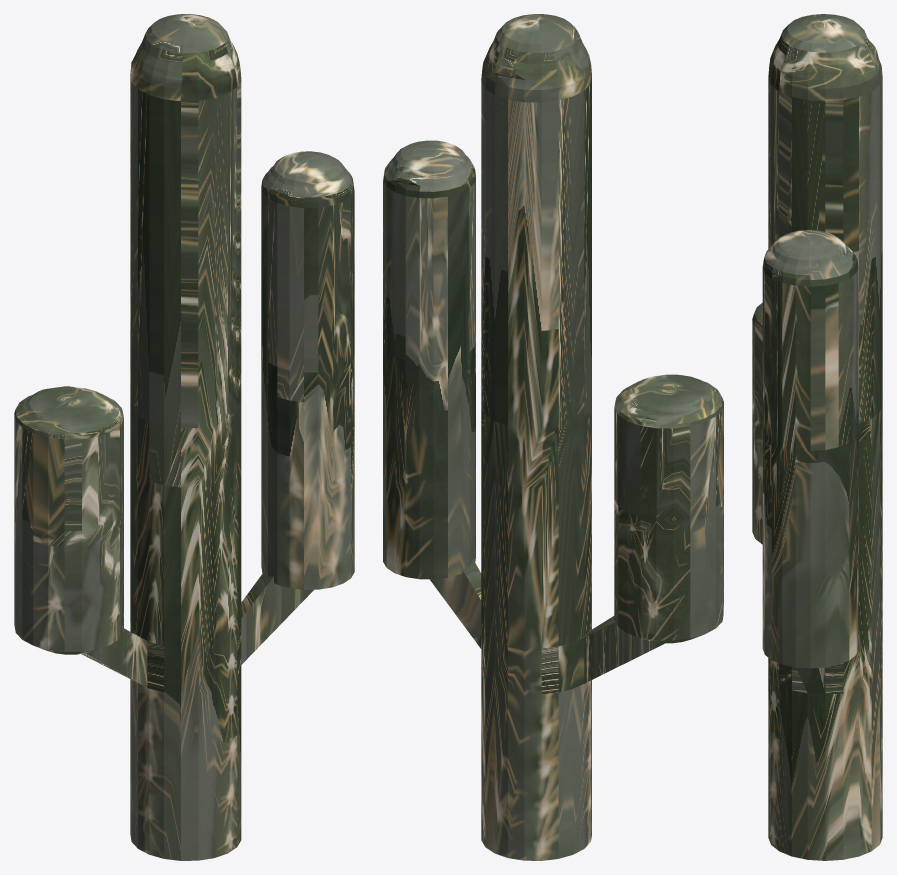
The model's file is cactus.fbx.
3 renders of one model, left to right at view 1: azimuth 30°, elevation 25°; view 2: azimuth 150°, elevation 25°; view 3: azimuth 270°, elevation 25°, orthographic.
Parts seen in each view (by area): view 1: polySurface1; view 2: polySurface1; view 3: polySurface1.
Boxes of the visible parts, left/top/right/bottom form: polySurface1: left=14, top=14, right=354, bottom=860; polySurface1: left=383, top=14, right=723, bottom=860; polySurface1: left=752, top=14, right=882, bottom=860.
Bounding box in the file's own units: 2.52 × 6.03 × 0.8736.
